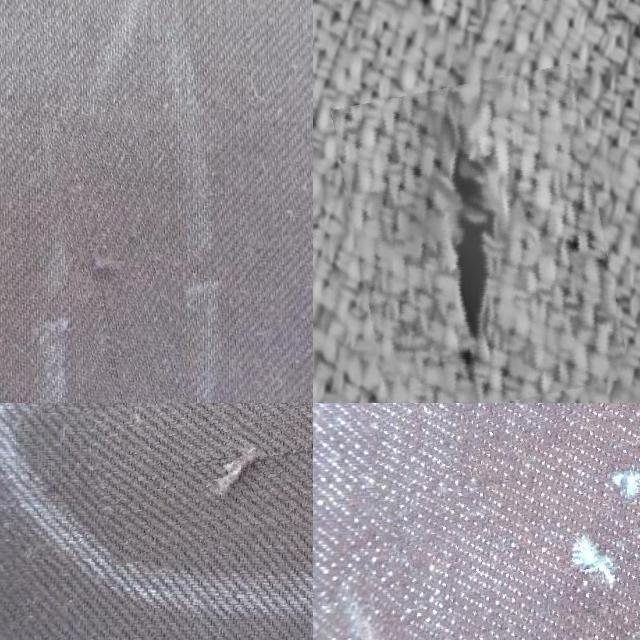other: (345, 74, 617, 403)
stains: (370, 403, 640, 640), (63, 107, 209, 403), (89, 403, 313, 552)
